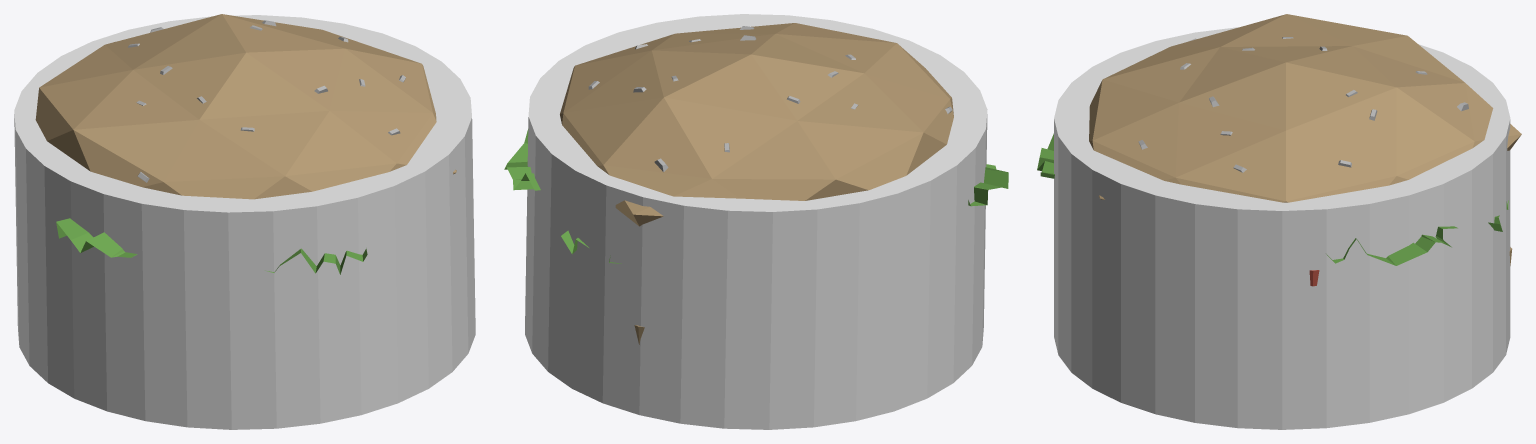
Rendered from Burger.glb.
3 views of the same model, side by side, from view 1: azimuth 30°, elevation 25°; view 2: azimuth 150°, elevation 25°; view 3: azimuth 270°, elevation 25° (orthographic).
Visible parts, largest first — view 1: Cylinder.001, Burger; view 2: Cylinder.001, Burger; view 3: Cylinder.001, Burger.
Boxes of the visible parts, <box> form: Cylinder.001: <box>14,15,475,429</box>; Burger: <box>35,14,456,274</box>; Cylinder.001: <box>525,14,987,429</box>; Burger: <box>504,23,1008,344</box>; Cylinder.001: <box>1054,27,1510,429</box>; Burger: <box>1037,14,1521,286</box>.
Size of the model in its own units: 0.3307 by 0.2158 by 0.34.
